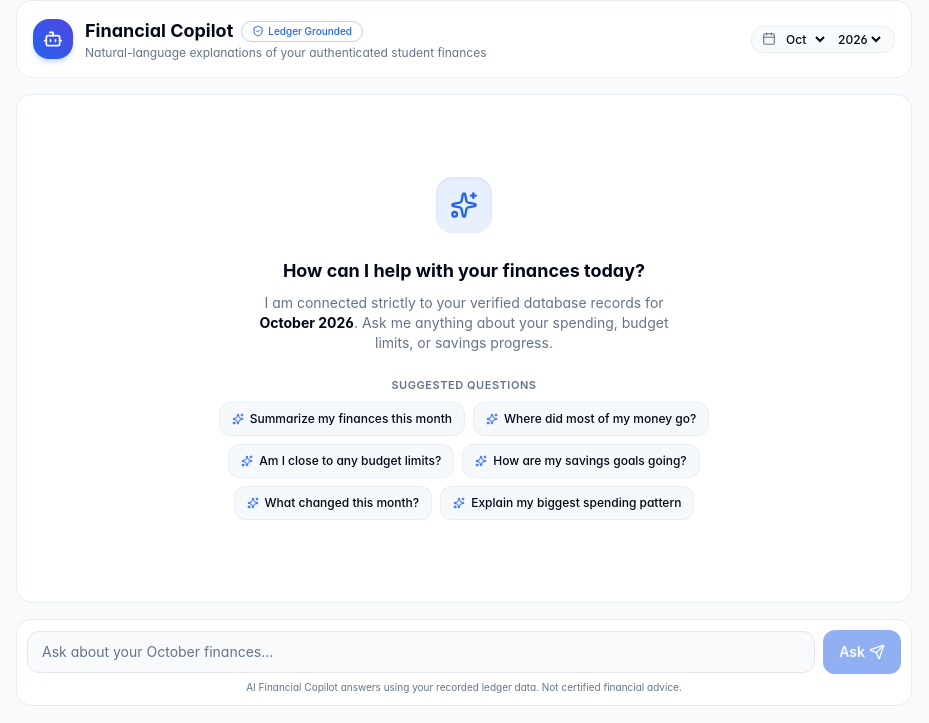
Test: AI Financial Copilot (Phase 7) › 5. Handles API error gracefully with Retry button
The image size is (929, 723).
Type "Why did my balance decrease?" into the field with placeholder "Ask about your October finances...".
click(421, 652); type("Why did my balance decrease?")  # box [27, 631, 815, 673]
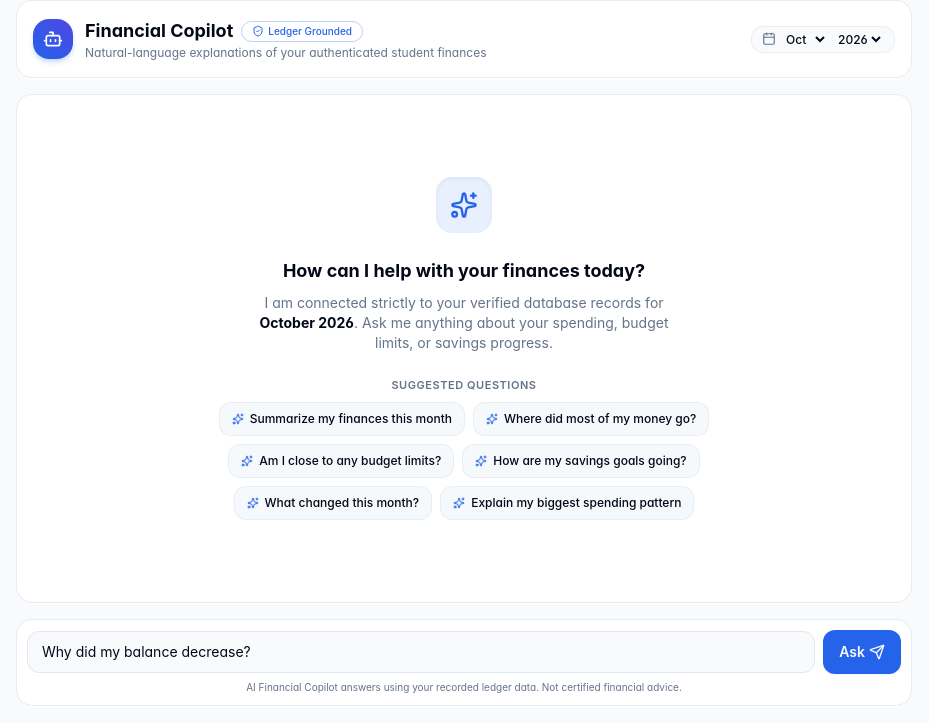
Click the button "Ask".
click(862, 652)  # box [823, 630, 901, 674]
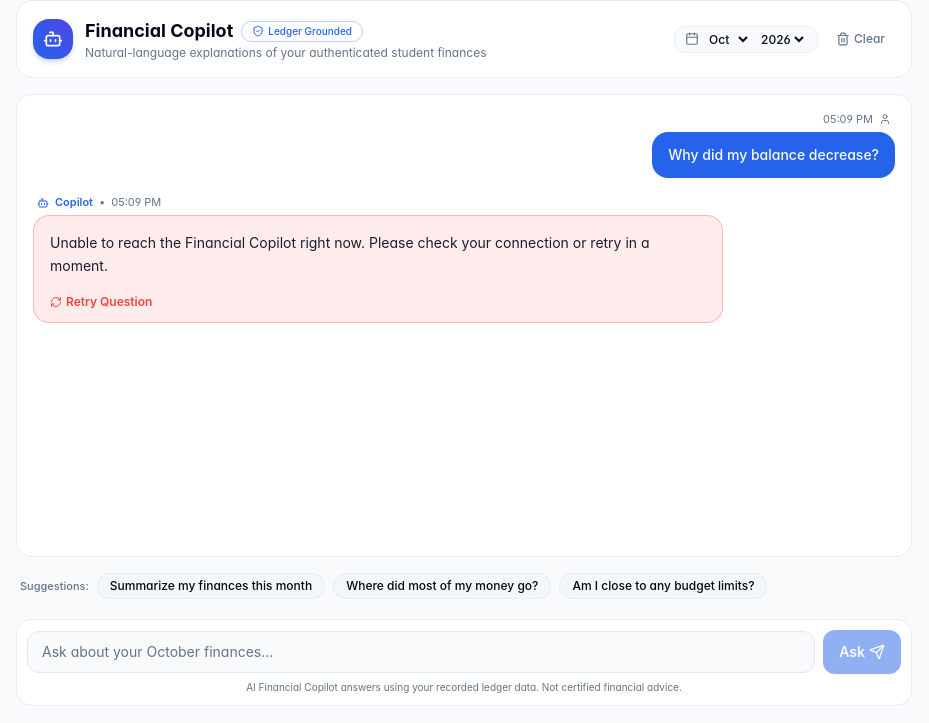
Result: the text "Unable to reach the Financial Copilot" is shown at [50, 234, 650, 274]
Result: the button "Retry Question" is shown at [50, 294, 152, 310]
